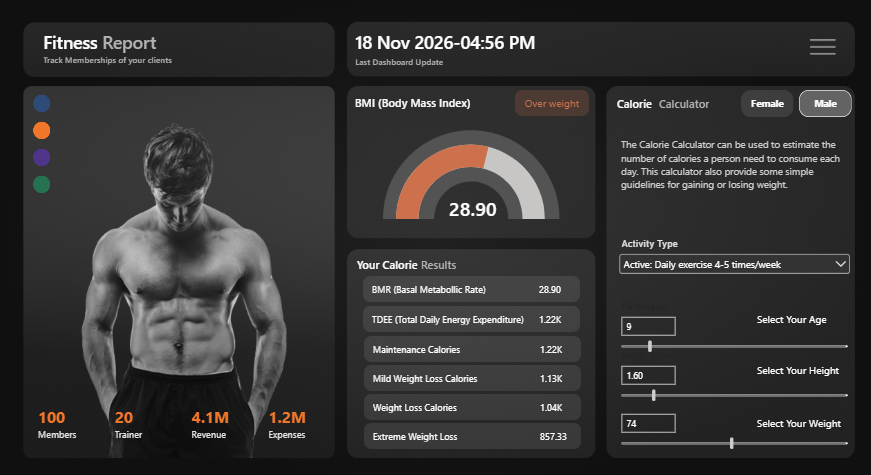

The dashboard page shown, as its layout file describes it:
{"tool":"powerbi","page":{"name":"Calculator","canvas":[1280,720],"ordinal":2},"visuals":[{"type":"shape","box":[532.5,407.7,313.7,37.6],"z":0},{"type":"slicer","fields":{"Values":["Weight_Slider.Weight_Slider"]},"box":[897.8,584.1,342.7,79.5],"z":1000},{"type":"slicer","fields":{"Values":["Age_Slider.Parameter"]},"box":[897.8,443.9,342.7,86.7],"z":2000},{"type":"slicer","fields":{"Values":["Slider_Activity.Category"]},"box":[897.8,352.8,342.7,85.3],"z":3000},{"type":"advancedSlicerVisual","fields":{"Values":["Slider_Gender.Gender"]},"box":[1078.6,138.8,160.5,39],"z":4000},{"type":"shape","box":[68,44.8,95.4,49.2],"z":5000},{"type":"shape","box":[153.3,44.8,95.4,49.2],"z":6000},{"type":"shape","box":[897.8,140.2,66.5,37.6],"z":7000},{"type":"shape","box":[958.6,140.2,79.5,37.6],"z":8000},{"type":"textbox","box":[905.1,208.2,328.2,101.2],"z":9000},{"type":"gauge","fields":{"Y":["_Measures.BMI"]},"box":[563.9,176.4,247.2,192.3],"z":10000},{"type":"shape","box":[1100.2,451.1,125.8,37.6],"z":11000},{"type":"shape","box":[1100.2,524.8,125.8,37.6],"z":12000},{"type":"shape","box":[1100.2,602.9,125.8,33.3],"z":13000},{"type":"slicer","fields":{"Values":["Hight_Slider.Hight_Slider"]},"box":[897.8,514.7,342.7,86.7],"z":14000},{"type":"cardVisual","fields":{"Data":["_Measures.BMI"]},"box":[640.5,283.4,115.7,52],"z":15000},{"type":"shape","box":[519,138.8,250.1,37.6],"z":16000},{"type":"shape","box":[751.8,138.8,107,37.6],"z":17000},{"type":"shape","box":[543.6,407.7,250.1,37.6],"z":18000},{"type":"cardVisual","fields":{"Data":["_Measures.BMI"]},"box":[771,407.7,75.2,37],"z":19000},{"type":"shape","box":[521.9,373,99.8,37.6],"z":20000},{"type":"shape","box":[614.5,373,79.5,37.6],"z":21000},{"type":"shape","box":[531.7,450.4,313.7,37.6],"z":22000},{"type":"shape","box":[543.3,450.4,250.1,37.6],"z":23000},{"type":"cardVisual","fields":{"Data":["_Measures.TDEE"]},"box":[770.3,450.4,75.2,37],"z":24000},{"type":"shape","box":[533.8,494.3,313.7,37.6],"z":25000},{"type":"shape","box":[545.4,494.3,250.1,37.6],"z":26000},{"type":"cardVisual","fields":{"Data":["_Measures.Maintain Calories"]},"box":[772.4,494.3,75.2,37],"z":27000},{"type":"shape","box":[533.1,537,313.7,37.6],"z":28000},{"type":"shape","box":[544.6,537,250.1,37.6],"z":29000},{"type":"cardVisual","fields":{"Data":["_Measures.Mild Wight Loss Calories"]},"box":[771.6,537,75.2,37],"z":30000},{"type":"shape","box":[533.8,578.2,313.7,37.6],"z":31000},{"type":"shape","box":[545.4,578.2,250.1,37.6],"z":32000},{"type":"cardVisual","fields":{"Data":["_Measures.Weight Loss Calories"]},"box":[772.4,578.2,75.2,37],"z":33000},{"type":"shape","box":[533.1,620.9,313.7,37.6],"z":34000},{"type":"shape","box":[544.6,620.9,250.1,37.6],"z":35000},{"type":"cardVisual","fields":{"Data":["_Measures.Extreme Weight Losss Calories"]},"box":[771.6,620.9,75.2,37],"z":36000},{"type":"shape","box":[68,69.4,224.1,49.2],"z":38000},{"type":"shape","box":[519,44.8,271.8,49.2],"z":39000},{"type":"shape","box":[519,72.3,224.1,49.2],"z":40000},{"type":"image","box":[1165.3,53.5,65.1,47.7],"z":41000},{"type":"advancedSlicerVisual","fields":{"Values":["ColorCodes.Icon"]},"box":[47.7,143.1,40.5,151.8],"z":41001},{"type":"cardVisual","fields":{"Data":["_Measures.User_Counts","Count(Users.Trainer Name)","_Measures.Revenue","_Measures.Expense"]},"box":[46.3,581.2,439,80],"z":41002}]}

Visuals, with their boxes on the page's 1280x720 design canvas (x1, y1, x2, y2). These are canvas units, not pixel positions in the 871x475 screenshot, which may show the page scaled, cropped or inside an application window:
shape: [x1=532, y1=408, x2=846, y2=445]
slicer - Weight_Slider.Weight_Slider: [x1=898, y1=584, x2=1240, y2=664]
slicer - Age_Slider.Parameter: [x1=898, y1=444, x2=1240, y2=531]
slicer - Slider_Activity.Category: [x1=898, y1=353, x2=1240, y2=438]
advancedSlicerVisual - Slider_Gender.Gender: [x1=1079, y1=139, x2=1239, y2=178]
shape: [x1=68, y1=45, x2=163, y2=94]
shape: [x1=153, y1=45, x2=249, y2=94]
shape: [x1=898, y1=140, x2=964, y2=178]
shape: [x1=959, y1=140, x2=1038, y2=178]
textbox: [x1=905, y1=208, x2=1233, y2=309]
gauge - _Measures.BMI: [x1=564, y1=176, x2=811, y2=369]
shape: [x1=1100, y1=451, x2=1226, y2=489]
shape: [x1=1100, y1=525, x2=1226, y2=562]
shape: [x1=1100, y1=603, x2=1226, y2=636]
slicer - Hight_Slider.Hight_Slider: [x1=898, y1=515, x2=1240, y2=601]
cardVisual - _Measures.BMI: [x1=640, y1=283, x2=756, y2=335]
shape: [x1=519, y1=139, x2=769, y2=176]
shape: [x1=752, y1=139, x2=859, y2=176]
shape: [x1=544, y1=408, x2=794, y2=445]
cardVisual - _Measures.BMI: [x1=771, y1=408, x2=846, y2=445]
shape: [x1=522, y1=373, x2=622, y2=411]
shape: [x1=614, y1=373, x2=694, y2=411]
shape: [x1=532, y1=450, x2=845, y2=488]
shape: [x1=543, y1=450, x2=793, y2=488]
cardVisual - _Measures.TDEE: [x1=770, y1=450, x2=846, y2=487]
shape: [x1=534, y1=494, x2=848, y2=532]
shape: [x1=545, y1=494, x2=796, y2=532]
cardVisual - _Measures.Maintain Calories: [x1=772, y1=494, x2=848, y2=531]
shape: [x1=533, y1=537, x2=847, y2=575]
shape: [x1=545, y1=537, x2=795, y2=575]
cardVisual - _Measures.Mild Wight Loss Calories: [x1=772, y1=537, x2=847, y2=574]
shape: [x1=534, y1=578, x2=848, y2=616]
shape: [x1=545, y1=578, x2=796, y2=616]
cardVisual - _Measures.Weight Loss Calories: [x1=772, y1=578, x2=848, y2=615]
shape: [x1=533, y1=621, x2=847, y2=658]
shape: [x1=545, y1=621, x2=795, y2=658]
cardVisual - _Measures.Extreme Weight Losss Calories: [x1=772, y1=621, x2=847, y2=658]
shape: [x1=68, y1=69, x2=292, y2=119]
shape: [x1=519, y1=45, x2=791, y2=94]
shape: [x1=519, y1=72, x2=743, y2=122]
image: [x1=1165, y1=54, x2=1230, y2=101]
advancedSlicerVisual - ColorCodes.Icon: [x1=48, y1=143, x2=88, y2=295]
cardVisual - _Measures.User_Counts x Count(Users.Trainer Name): [x1=46, y1=581, x2=485, y2=661]
